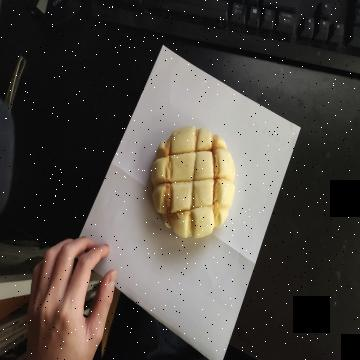melon_bread: (151, 126, 236, 239)
